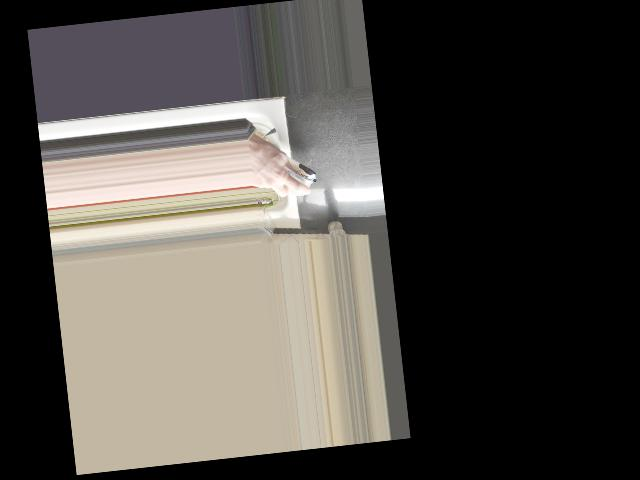cheese: (252, 144, 320, 197)
